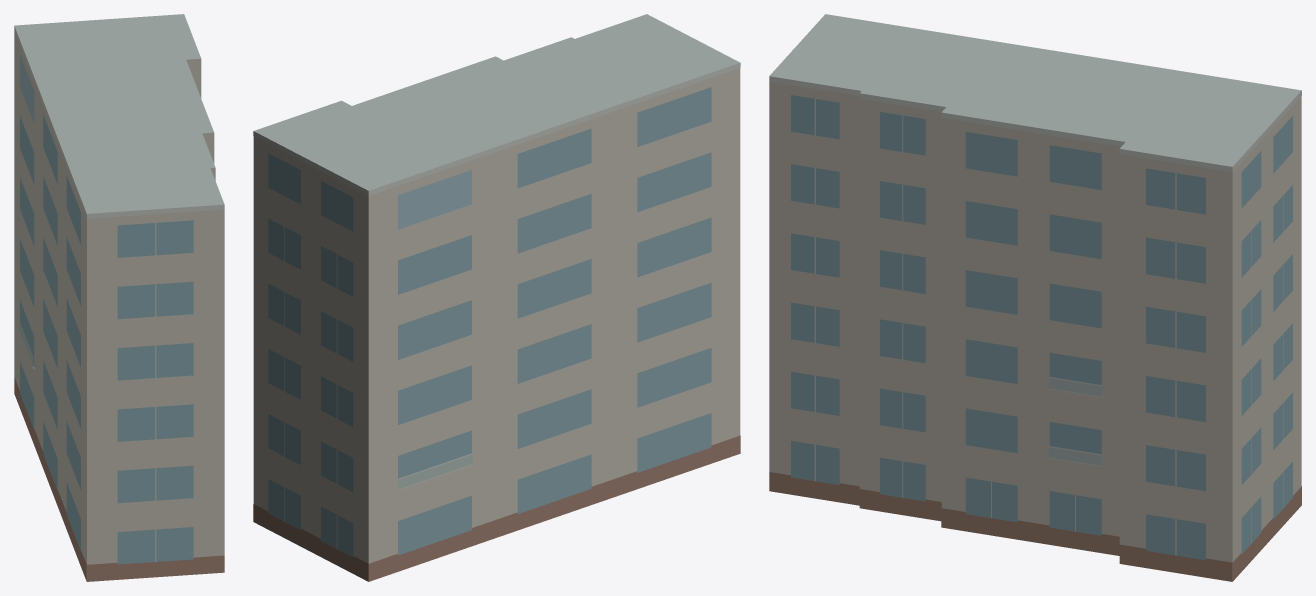
Rendered from survey-upis-32553044.glb.
3 views of the same model, side by side, from view 1: azimuth 30°, elevation 25°; view 2: azimuth 150°, elevation 25°; view 3: azimuth 270°, elevation 25° (orthographic). The views are drawn at different scales.
Parts seen in each view (by area): view 1: survey-upis-32553044.tmp; view 2: survey-upis-32553044.tmp; view 3: survey-upis-32553044.tmp.
Part boxes in pixels (<box>): survey-upis-32553044.tmp: <box>14,14,224,581</box>; survey-upis-32553044.tmp: <box>253,14,740,581</box>; survey-upis-32553044.tmp: <box>769,14,1301,581</box>.
Bounding box in the file's own units: 14.63 × 18.5 × 21.53.
